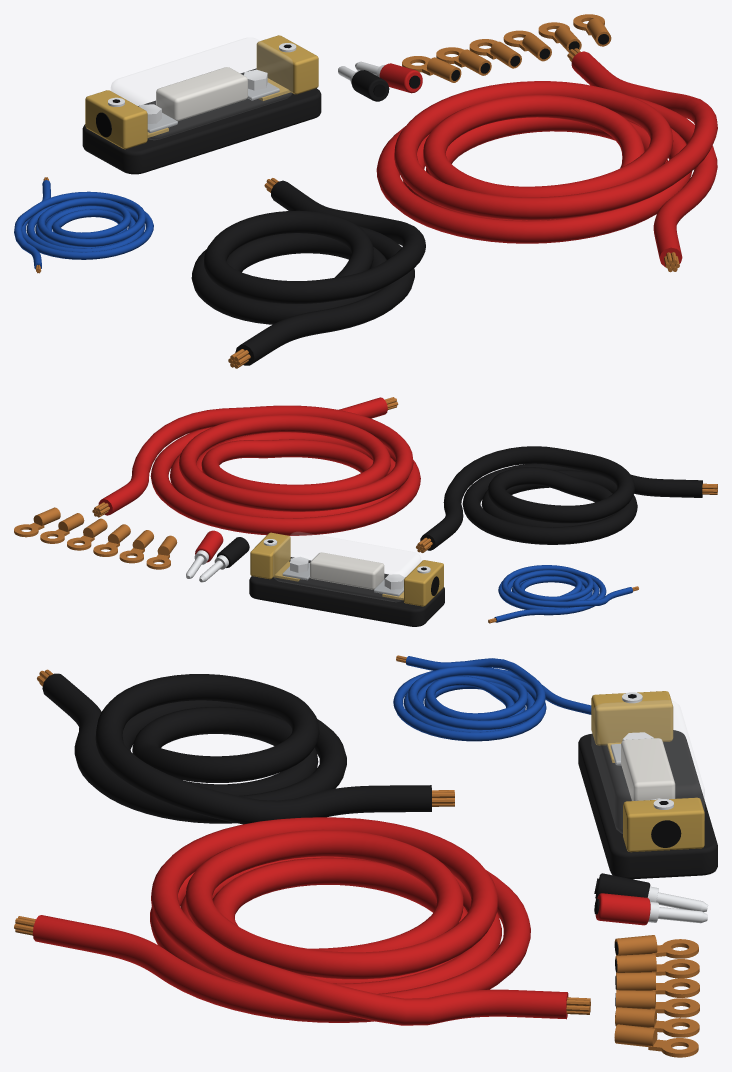
File: install-kit-4.glb
The picture shows the model from 3 angles, top to bottom: view 1: azimuth 30°, elevation 25°; view 2: azimuth 150°, elevation 25°; view 3: azimuth 270°, elevation 25°; orthographic projection. The views are drawn at different scales.
Visible parts, largest first — view 1: install-kit; view 2: install-kit; view 3: install-kit.
Boxes of the visible parts, x1,y1,x2,y2 form: install-kit: (14,14,717,368); install-kit: (14,397,717,626); install-kit: (14,655,717,1057).
Bounding box in the file's own units: 0.3095 × 0.027 × 0.2325.
